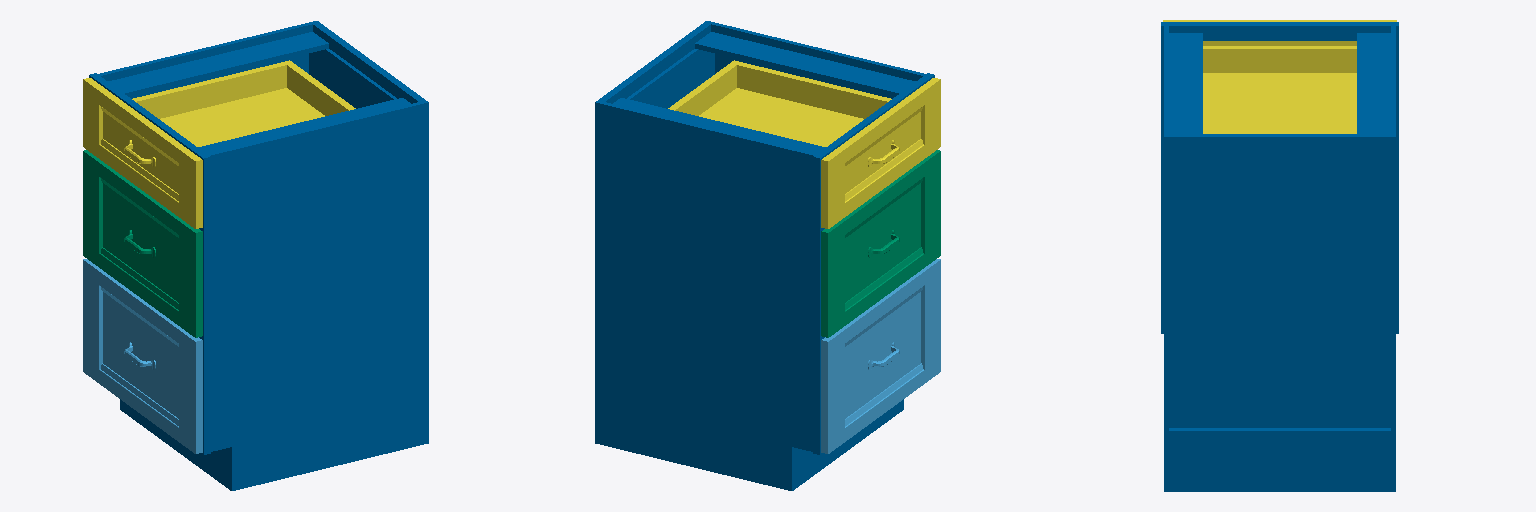
robot.urdf — partnet_140c308db70cd2674da5feafe6f1c8fc:
<?xml version="1.0" ?>
<robot name="partnet_140c308db70cd2674da5feafe6f1c8fc">
	<link name="base"/>
	<link name="link_0">
		<visual name="drawer_front-42">
			<origin xyz="-0.14754418238352668 0.3090185484725288 -0.538657009601593"/>
			<geometry>
				<mesh filename="textured_objs/original-39.obj"/>
			</geometry>
		</visual>
		<visual name="drawer_front-42">
			<origin xyz="-0.14754418238352668 0.3090185484725288 -0.538657009601593"/>
			<geometry>
				<mesh filename="textured_objs/original-26.obj"/>
			</geometry>
		</visual>
		<visual name="drawer_side-43">
			<origin xyz="-0.14754418238352668 0.3090185484725288 -0.538657009601593"/>
			<geometry>
				<mesh filename="textured_objs/original-30.obj"/>
			</geometry>
		</visual>
		<visual name="drawer_side-44">
			<origin xyz="-0.14754418238352668 0.3090185484725288 -0.538657009601593"/>
			<geometry>
				<mesh filename="textured_objs/original-25.obj"/>
			</geometry>
		</visual>
		<visual name="drawer_back-45">
			<origin xyz="-0.14754418238352668 0.3090185484725288 -0.538657009601593"/>
			<geometry>
				<mesh filename="textured_objs/original-31.obj"/>
			</geometry>
		</visual>
		<visual name="drawer_bottom-46">
			<origin xyz="-0.14754418238352668 0.3090185484725288 -0.538657009601593"/>
			<geometry>
				<mesh filename="textured_objs/original-29.obj"/>
			</geometry>
		</visual>
		<visual name="drawer_bottom-46">
			<origin xyz="-0.14754418238352668 0.3090185484725288 -0.538657009601593"/>
			<geometry>
				<mesh filename="textured_objs/original-28.obj"/>
			</geometry>
		</visual>
		<visual name="other_leaf-48">
			<origin xyz="-0.14754418238352668 0.3090185484725288 -0.538657009601593"/>
			<geometry>
				<mesh filename="textured_objs/original-32.obj"/>
			</geometry>
		</visual>
		<visual name="drawer_front-67">
			<origin xyz="-0.14754418238352668 0.3090185484725288 -0.538657009601593"/>
			<geometry>
				<mesh filename="textured_objs/original-40.obj"/>
			</geometry>
		</visual>
		<visual name="drawer_front-67">
			<origin xyz="-0.14754418238352668 0.3090185484725288 -0.538657009601593"/>
			<geometry>
				<mesh filename="textured_objs/original-34.obj"/>
			</geometry>
		</visual>
		<visual name="drawer_front-67">
			<origin xyz="-0.14754418238352668 0.3090185484725288 -0.538657009601593"/>
			<geometry>
				<mesh filename="textured_objs/original-37.obj"/>
			</geometry>
		</visual>
		<visual name="drawer_front-67">
			<origin xyz="-0.14754418238352668 0.3090185484725288 -0.538657009601593"/>
			<geometry>
				<mesh filename="textured_objs/original-36.obj"/>
			</geometry>
		</visual>
		<visual name="drawer_front-67">
			<origin xyz="-0.14754418238352668 0.3090185484725288 -0.538657009601593"/>
			<geometry>
				<mesh filename="textured_objs/original-35.obj"/>
			</geometry>
		</visual>
		<visual name="handle-41">
			<origin xyz="-0.14754418238352668 0.3090185484725288 -0.538657009601593"/>
			<geometry>
				<mesh filename="textured_objs/original-41.obj"/>
			</geometry>
		</visual>
		<collision>
			<origin xyz="-0.14754418238352668 0.3090185484725288 -0.538657009601593"/>
			<geometry>
				<mesh filename="textured_objs/original-39.obj"/>
			</geometry>
		</collision>
		<collision>
			<origin xyz="-0.14754418238352668 0.3090185484725288 -0.538657009601593"/>
			<geometry>
				<mesh filename="textured_objs/original-26.obj"/>
			</geometry>
		</collision>
		<collision>
			<origin xyz="-0.14754418238352668 0.3090185484725288 -0.538657009601593"/>
			<geometry>
				<mesh filename="textured_objs/original-30.obj"/>
			</geometry>
		</collision>
		<collision>
			<origin xyz="-0.14754418238352668 0.3090185484725288 -0.538657009601593"/>
			<geometry>
				<mesh filename="textured_objs/original-25.obj"/>
			</geometry>
		</collision>
		<collision>
			<origin xyz="-0.14754418238352668 0.3090185484725288 -0.538657009601593"/>
			<geometry>
				<mesh filename="textured_objs/original-31.obj"/>
			</geometry>
		</collision>
		<collision>
			<origin xyz="-0.14754418238352668 0.3090185484725288 -0.538657009601593"/>
			<geometry>
				<mesh filename="textured_objs/original-29.obj"/>
			</geometry>
		</collision>
		<collision>
			<origin xyz="-0.14754418238352668 0.3090185484725288 -0.538657009601593"/>
			<geometry>
				<mesh filename="textured_objs/original-28.obj"/>
			</geometry>
		</collision>
		<collision>
			<origin xyz="-0.14754418238352668 0.3090185484725288 -0.538657009601593"/>
			<geometry>
				<mesh filename="textured_objs/original-32.obj"/>
			</geometry>
		</collision>
		<collision>
			<origin xyz="-0.14754418238352668 0.3090185484725288 -0.538657009601593"/>
			<geometry>
				<mesh filename="textured_objs/original-40.obj"/>
			</geometry>
		</collision>
		<collision>
			<origin xyz="-0.14754418238352668 0.3090185484725288 -0.538657009601593"/>
			<geometry>
				<mesh filename="textured_objs/original-34.obj"/>
			</geometry>
		</collision>
		<collision>
			<origin xyz="-0.14754418238352668 0.3090185484725288 -0.538657009601593"/>
			<geometry>
				<mesh filename="textured_objs/original-37.obj"/>
			</geometry>
		</collision>
		<collision>
			<origin xyz="-0.14754418238352668 0.3090185484725288 -0.538657009601593"/>
			<geometry>
				<mesh filename="textured_objs/original-36.obj"/>
			</geometry>
		</collision>
		<collision>
			<origin xyz="-0.14754418238352668 0.3090185484725288 -0.538657009601593"/>
			<geometry>
				<mesh filename="textured_objs/original-35.obj"/>
			</geometry>
		</collision>
		<collision>
			<origin xyz="-0.14754418238352668 0.3090185484725288 -0.538657009601593"/>
			<geometry>
				<mesh filename="textured_objs/original-41.obj"/>
			</geometry>
		</collision>
	</link>
	<joint name="joint_0" type="prismatic">
		<origin xyz="0.14754418238352668 -0.3090185484725288 0.538657009601593"/>
		<axis xyz="0 0 1"/>
		<child link="link_0"/>
		<parent link="link_3"/>
		<limit lower="0" upper="0.7999999999999998"/>
	</joint>
	<link name="link_1">
		<visual name="drawer_side-33">
			<origin xyz="0.06597755242387357 -0.15464955017204704 0.47079199552536055"/>
			<geometry>
				<mesh filename="textured_objs/original-49.obj"/>
			</geometry>
		</visual>
		<visual name="drawer_side-34">
			<origin xyz="0.06597755242387357 -0.15464955017204704 0.47079199552536055"/>
			<geometry>
				<mesh filename="textured_objs/original-44.obj"/>
			</geometry>
		</visual>
		<visual name="drawer_back-35">
			<origin xyz="0.06597755242387357 -0.15464955017204704 0.47079199552536055"/>
			<geometry>
				<mesh filename="textured_objs/original-50.obj"/>
			</geometry>
		</visual>
		<visual name="drawer_bottom-36">
			<origin xyz="0.06597755242387357 -0.15464955017204704 0.47079199552536055"/>
			<geometry>
				<mesh filename="textured_objs/original-48.obj"/>
			</geometry>
		</visual>
		<visual name="drawer_bottom-36">
			<origin xyz="0.06597755242387357 -0.15464955017204704 0.47079199552536055"/>
			<geometry>
				<mesh filename="textured_objs/original-47.obj"/>
			</geometry>
		</visual>
		<visual name="other_leaf-39">
			<origin xyz="0.06597755242387357 -0.15464955017204704 0.47079199552536055"/>
			<geometry>
				<mesh filename="textured_objs/original-51.obj"/>
			</geometry>
		</visual>
		<visual name="drawer_front-68">
			<origin xyz="0.06597755242387357 -0.15464955017204704 0.47079199552536055"/>
			<geometry>
				<mesh filename="textured_objs/original-59.obj"/>
			</geometry>
		</visual>
		<visual name="drawer_front-68">
			<origin xyz="0.06597755242387357 -0.15464955017204704 0.47079199552536055"/>
			<geometry>
				<mesh filename="textured_objs/original-53.obj"/>
			</geometry>
		</visual>
		<visual name="drawer_front-68">
			<origin xyz="0.06597755242387357 -0.15464955017204704 0.47079199552536055"/>
			<geometry>
				<mesh filename="textured_objs/original-56.obj"/>
			</geometry>
		</visual>
		<visual name="drawer_front-68">
			<origin xyz="0.06597755242387357 -0.15464955017204704 0.47079199552536055"/>
			<geometry>
				<mesh filename="textured_objs/original-55.obj"/>
			</geometry>
		</visual>
		<visual name="drawer_front-68">
			<origin xyz="0.06597755242387357 -0.15464955017204704 0.47079199552536055"/>
			<geometry>
				<mesh filename="textured_objs/original-54.obj"/>
			</geometry>
		</visual>
		<visual name="drawer_front-68">
			<origin xyz="0.06597755242387357 -0.15464955017204704 0.47079199552536055"/>
			<geometry>
				<mesh filename="textured_objs/original-45.obj"/>
			</geometry>
		</visual>
		<visual name="drawer_front-68">
			<origin xyz="0.06597755242387357 -0.15464955017204704 0.47079199552536055"/>
			<geometry>
				<mesh filename="textured_objs/original-58.obj"/>
			</geometry>
		</visual>
		<visual name="handle-31">
			<origin xyz="0.06597755242387357 -0.15464955017204704 0.47079199552536055"/>
			<geometry>
				<mesh filename="textured_objs/original-60.obj"/>
			</geometry>
		</visual>
		<collision>
			<origin xyz="0.06597755242387357 -0.15464955017204704 0.47079199552536055"/>
			<geometry>
				<mesh filename="textured_objs/original-49.obj"/>
			</geometry>
		</collision>
		<collision>
			<origin xyz="0.06597755242387357 -0.15464955017204704 0.47079199552536055"/>
			<geometry>
				<mesh filename="textured_objs/original-44.obj"/>
			</geometry>
		</collision>
		<collision>
			<origin xyz="0.06597755242387357 -0.15464955017204704 0.47079199552536055"/>
			<geometry>
				<mesh filename="textured_objs/original-50.obj"/>
			</geometry>
		</collision>
		<collision>
			<origin xyz="0.06597755242387357 -0.15464955017204704 0.47079199552536055"/>
			<geometry>
				<mesh filename="textured_objs/original-48.obj"/>
			</geometry>
		</collision>
		<collision>
			<origin xyz="0.06597755242387357 -0.15464955017204704 0.47079199552536055"/>
			<geometry>
				<mesh filename="textured_objs/original-47.obj"/>
			</geometry>
		</collision>
		<collision>
			<origin xyz="0.06597755242387357 -0.15464955017204704 0.47079199552536055"/>
			<geometry>
				<mesh filename="textured_objs/original-51.obj"/>
			</geometry>
		</collision>
		<collision>
			<origin xyz="0.06597755242387357 -0.15464955017204704 0.47079199552536055"/>
			<geometry>
				<mesh filename="textured_objs/original-59.obj"/>
			</geometry>
		</collision>
		<collision>
			<origin xyz="0.06597755242387357 -0.15464955017204704 0.47079199552536055"/>
			<geometry>
				<mesh filename="textured_objs/original-53.obj"/>
			</geometry>
		</collision>
		<collision>
			<origin xyz="0.06597755242387357 -0.15464955017204704 0.47079199552536055"/>
			<geometry>
				<mesh filename="textured_objs/original-56.obj"/>
			</geometry>
		</collision>
		<collision>
			<origin xyz="0.06597755242387357 -0.15464955017204704 0.47079199552536055"/>
			<geometry>
				<mesh filename="textured_objs/original-55.obj"/>
			</geometry>
		</collision>
		<collision>
			<origin xyz="0.06597755242387357 -0.15464955017204704 0.47079199552536055"/>
			<geometry>
				<mesh filename="textured_objs/original-54.obj"/>
			</geometry>
		</collision>
		<collision>
			<origin xyz="0.06597755242387357 -0.15464955017204704 0.47079199552536055"/>
			<geometry>
				<mesh filename="textured_objs/original-45.obj"/>
			</geometry>
		</collision>
		<collision>
			<origin xyz="0.06597755242387357 -0.15464955017204704 0.47079199552536055"/>
			<geometry>
				<mesh filename="textured_objs/original-58.obj"/>
			</geometry>
		</collision>
		<collision>
			<origin xyz="0.06597755242387357 -0.15464955017204704 0.47079199552536055"/>
			<geometry>
				<mesh filename="textured_objs/original-60.obj"/>
			</geometry>
		</collision>
	</link>
	<joint name="joint_1" type="prismatic">
		<origin xyz="-0.06597755242387357 0.15464955017204704 -0.47079199552536055"/>
		<axis xyz="0 0 1"/>
		<child link="link_1"/>
		<parent link="link_3"/>
		<limit lower="0" upper="0.7999999999999998"/>
	</joint>
	<link name="link_2">
		<visual name="drawer_side-10">
			<origin xyz="0.015975571246585413 -0.5151023282218963 0.4707919955253601"/>
			<geometry>
				<mesh filename="textured_objs/original-68.obj"/>
			</geometry>
		</visual>
		<visual name="drawer_side-11">
			<origin xyz="0.015975571246585413 -0.5151023282218963 0.4707919955253601"/>
			<geometry>
				<mesh filename="textured_objs/original-63.obj"/>
			</geometry>
		</visual>
		<visual name="drawer_back-12">
			<origin xyz="0.015975571246585413 -0.5151023282218963 0.4707919955253601"/>
			<geometry>
				<mesh filename="textured_objs/original-69.obj"/>
			</geometry>
		</visual>
		<visual name="drawer_bottom-13">
			<origin xyz="0.015975571246585413 -0.5151023282218963 0.4707919955253601"/>
			<geometry>
				<mesh filename="textured_objs/original-66.obj"/>
			</geometry>
		</visual>
		<visual name="drawer_bottom-13">
			<origin xyz="0.015975571246585413 -0.5151023282218963 0.4707919955253601"/>
			<geometry>
				<mesh filename="textured_objs/original-67.obj"/>
			</geometry>
		</visual>
		<visual name="drawer_front-14">
			<origin xyz="0.015975571246585413 -0.5151023282218963 0.4707919955253601"/>
			<geometry>
				<mesh filename="textured_objs/original-72.obj"/>
			</geometry>
		</visual>
		<visual name="drawer_front-14">
			<origin xyz="0.015975571246585413 -0.5151023282218963 0.4707919955253601"/>
			<geometry>
				<mesh filename="textured_objs/original-75.obj"/>
			</geometry>
		</visual>
		<visual name="drawer_front-14">
			<origin xyz="0.015975571246585413 -0.5151023282218963 0.4707919955253601"/>
			<geometry>
				<mesh filename="textured_objs/original-74.obj"/>
			</geometry>
		</visual>
		<visual name="drawer_front-14">
			<origin xyz="0.015975571246585413 -0.5151023282218963 0.4707919955253601"/>
			<geometry>
				<mesh filename="textured_objs/original-73.obj"/>
			</geometry>
		</visual>
		<visual name="drawer_front-14">
			<origin xyz="0.015975571246585413 -0.5151023282218963 0.4707919955253601"/>
			<geometry>
				<mesh filename="textured_objs/original-78.obj"/>
			</geometry>
		</visual>
		<visual name="drawer_front-14">
			<origin xyz="0.015975571246585413 -0.5151023282218963 0.4707919955253601"/>
			<geometry>
				<mesh filename="textured_objs/original-64.obj"/>
			</geometry>
		</visual>
		<visual name="drawer_front-14">
			<origin xyz="0.015975571246585413 -0.5151023282218963 0.4707919955253601"/>
			<geometry>
				<mesh filename="textured_objs/original-77.obj"/>
			</geometry>
		</visual>
		<visual name="other_leaf-16">
			<origin xyz="0.015975571246585413 -0.5151023282218963 0.4707919955253601"/>
			<geometry>
				<mesh filename="textured_objs/original-70.obj"/>
			</geometry>
		</visual>
		<visual name="handle-8">
			<origin xyz="0.015975571246585413 -0.5151023282218963 0.4707919955253601"/>
			<geometry>
				<mesh filename="textured_objs/original-79.obj"/>
			</geometry>
		</visual>
		<collision>
			<origin xyz="0.015975571246585413 -0.5151023282218963 0.4707919955253601"/>
			<geometry>
				<mesh filename="textured_objs/original-68.obj"/>
			</geometry>
		</collision>
		<collision>
			<origin xyz="0.015975571246585413 -0.5151023282218963 0.4707919955253601"/>
			<geometry>
				<mesh filename="textured_objs/original-63.obj"/>
			</geometry>
		</collision>
		<collision>
			<origin xyz="0.015975571246585413 -0.5151023282218963 0.4707919955253601"/>
			<geometry>
				<mesh filename="textured_objs/original-69.obj"/>
			</geometry>
		</collision>
		<collision>
			<origin xyz="0.015975571246585413 -0.5151023282218963 0.4707919955253601"/>
			<geometry>
				<mesh filename="textured_objs/original-66.obj"/>
			</geometry>
		</collision>
		<collision>
			<origin xyz="0.015975571246585413 -0.5151023282218963 0.4707919955253601"/>
			<geometry>
				<mesh filename="textured_objs/original-67.obj"/>
			</geometry>
		</collision>
		<collision>
			<origin xyz="0.015975571246585413 -0.5151023282218963 0.4707919955253601"/>
			<geometry>
				<mesh filename="textured_objs/original-72.obj"/>
			</geometry>
		</collision>
		<collision>
			<origin xyz="0.015975571246585413 -0.5151023282218963 0.4707919955253601"/>
			<geometry>
				<mesh filename="textured_objs/original-75.obj"/>
			</geometry>
		</collision>
		<collision>
			<origin xyz="0.015975571246585413 -0.5151023282218963 0.4707919955253601"/>
			<geometry>
				<mesh filename="textured_objs/original-74.obj"/>
			</geometry>
		</collision>
		<collision>
			<origin xyz="0.015975571246585413 -0.5151023282218963 0.4707919955253601"/>
			<geometry>
				<mesh filename="textured_objs/original-73.obj"/>
			</geometry>
		</collision>
		<collision>
			<origin xyz="0.015975571246585413 -0.5151023282218963 0.4707919955253601"/>
			<geometry>
				<mesh filename="textured_objs/original-78.obj"/>
			</geometry>
		</collision>
		<collision>
			<origin xyz="0.015975571246585413 -0.5151023282218963 0.4707919955253601"/>
			<geometry>
				<mesh filename="textured_objs/original-64.obj"/>
			</geometry>
		</collision>
		<collision>
			<origin xyz="0.015975571246585413 -0.5151023282218963 0.4707919955253601"/>
			<geometry>
				<mesh filename="textured_objs/original-77.obj"/>
			</geometry>
		</collision>
		<collision>
			<origin xyz="0.015975571246585413 -0.5151023282218963 0.4707919955253601"/>
			<geometry>
				<mesh filename="textured_objs/original-70.obj"/>
			</geometry>
		</collision>
		<collision>
			<origin xyz="0.015975571246585413 -0.5151023282218963 0.4707919955253601"/>
			<geometry>
				<mesh filename="textured_objs/original-79.obj"/>
			</geometry>
		</collision>
	</link>
	<joint name="joint_2" type="prismatic">
		<origin xyz="-0.015975571246585413 0.5151023282218963 -0.4707919955253601"/>
		<axis xyz="0 0 1"/>
		<child link="link_2"/>
		<parent link="link_3"/>
		<limit lower="0" upper="0.7999999999999998"/>
	</joint>
	<link name="link_3">
		<visual name="vertical_side_panel-23">
			<origin xyz="0 0 0"/>
			<geometry>
				<mesh filename="textured_objs/original-11.obj"/>
			</geometry>
		</visual>
		<visual name="vertical_side_panel-23">
			<origin xyz="0 0 0"/>
			<geometry>
				<mesh filename="textured_objs/original-10.obj"/>
			</geometry>
		</visual>
		<visual name="vertical_side_panel-24">
			<origin xyz="0 0 0"/>
			<geometry>
				<mesh filename="textured_objs/original-15.obj"/>
			</geometry>
		</visual>
		<visual name="vertical_side_panel-24">
			<origin xyz="0 0 0"/>
			<geometry>
				<mesh filename="textured_objs/original-14.obj"/>
			</geometry>
		</visual>
		<visual name="back_panel-27">
			<origin xyz="0 0 0"/>
			<geometry>
				<mesh filename="textured_objs/original-5.obj"/>
			</geometry>
		</visual>
		<visual name="bottom_panel-28">
			<origin xyz="0 0 0"/>
			<geometry>
				<mesh filename="textured_objs/original-2.obj"/>
			</geometry>
		</visual>
		<visual name="frame_vertical_bar-54">
			<origin xyz="0 0 0"/>
			<geometry>
				<mesh filename="textured_objs/original-3.obj"/>
			</geometry>
		</visual>
		<visual name="frame_vertical_bar-55">
			<origin xyz="0 0 0"/>
			<geometry>
				<mesh filename="textured_objs/original-7.obj"/>
			</geometry>
		</visual>
		<visual name="frame_horizontal_bar-56">
			<origin xyz="0 0 0"/>
			<geometry>
				<mesh filename="textured_objs/original-22.obj"/>
			</geometry>
		</visual>
		<visual name="frame_horizontal_bar-57">
			<origin xyz="0 0 0"/>
			<geometry>
				<mesh filename="textured_objs/original-8.obj"/>
			</geometry>
		</visual>
		<visual name="frame_horizontal_bar-58">
			<origin xyz="0 0 0"/>
			<geometry>
				<mesh filename="textured_objs/original-21.obj"/>
			</geometry>
		</visual>
		<visual name="frame_horizontal_bar-59">
			<origin xyz="0 0 0"/>
			<geometry>
				<mesh filename="textured_objs/original-20.obj"/>
			</geometry>
		</visual>
		<visual name="frame_horizontal_bar-60">
			<origin xyz="0 0 0"/>
			<geometry>
				<mesh filename="textured_objs/original-4.obj"/>
			</geometry>
		</visual>
		<visual name="frame_horizontal_bar-61">
			<origin xyz="0 0 0"/>
			<geometry>
				<mesh filename="textured_objs/original-17.obj"/>
			</geometry>
		</visual>
		<visual name="frame_horizontal_bar-62">
			<origin xyz="0 0 0"/>
			<geometry>
				<mesh filename="textured_objs/original-6.obj"/>
			</geometry>
		</visual>
		<visual name="other_leaf-64">
			<origin xyz="0 0 0"/>
			<geometry>
				<mesh filename="textured_objs/original-80.obj"/>
			</geometry>
		</visual>
		<visual name="base_side_panel-50">
			<origin xyz="0 0 0"/>
			<geometry>
				<mesh filename="textured_objs/original-18.obj"/>
			</geometry>
		</visual>
		<visual name="base_side_panel-51">
			<origin xyz="0 0 0"/>
			<geometry>
				<mesh filename="textured_objs/original-12.obj"/>
			</geometry>
		</visual>
		<visual name="base_side_panel-52">
			<origin xyz="0 0 0"/>
			<geometry>
				<mesh filename="textured_objs/original-16.obj"/>
			</geometry>
		</visual>
		<visual name="base_side_panel-53">
			<origin xyz="0 0 0"/>
			<geometry>
				<mesh filename="textured_objs/original-19.obj"/>
			</geometry>
		</visual>
		<collision>
			<origin xyz="0 0 0"/>
			<geometry>
				<mesh filename="textured_objs/original-11.obj"/>
			</geometry>
		</collision>
		<collision>
			<origin xyz="0 0 0"/>
			<geometry>
				<mesh filename="textured_objs/original-10.obj"/>
			</geometry>
		</collision>
		<collision>
			<origin xyz="0 0 0"/>
			<geometry>
				<mesh filename="textured_objs/original-15.obj"/>
			</geometry>
		</collision>
		<collision>
			<origin xyz="0 0 0"/>
			<geometry>
				<mesh filename="textured_objs/original-14.obj"/>
			</geometry>
		</collision>
		<collision>
			<origin xyz="0 0 0"/>
			<geometry>
				<mesh filename="textured_objs/original-5.obj"/>
			</geometry>
		</collision>
		<collision>
			<origin xyz="0 0 0"/>
			<geometry>
				<mesh filename="textured_objs/original-2.obj"/>
			</geometry>
		</collision>
		<collision>
			<origin xyz="0 0 0"/>
			<geometry>
				<mesh filename="textured_objs/original-3.obj"/>
			</geometry>
		</collision>
		<collision>
			<origin xyz="0 0 0"/>
			<geometry>
				<mesh filename="textured_objs/original-7.obj"/>
			</geometry>
		</collision>
		<collision>
			<origin xyz="0 0 0"/>
			<geometry>
				<mesh filename="textured_objs/original-22.obj"/>
			</geometry>
		</collision>
		<collision>
			<origin xyz="0 0 0"/>
			<geometry>
				<mesh filename="textured_objs/original-8.obj"/>
			</geometry>
		</collision>
		<collision>
			<origin xyz="0 0 0"/>
			<geometry>
				<mesh filename="textured_objs/original-21.obj"/>
			</geometry>
		</collision>
		<collision>
			<origin xyz="0 0 0"/>
			<geometry>
				<mesh filename="textured_objs/original-20.obj"/>
			</geometry>
		</collision>
		<collision>
			<origin xyz="0 0 0"/>
			<geometry>
				<mesh filename="textured_objs/original-4.obj"/>
			</geometry>
		</collision>
		<collision>
			<origin xyz="0 0 0"/>
			<geometry>
				<mesh filename="textured_objs/original-17.obj"/>
			</geometry>
		</collision>
		<collision>
			<origin xyz="0 0 0"/>
			<geometry>
				<mesh filename="textured_objs/original-6.obj"/>
			</geometry>
		</collision>
		<collision>
			<origin xyz="0 0 0"/>
			<geometry>
				<mesh filename="textured_objs/original-80.obj"/>
			</geometry>
		</collision>
		<collision>
			<origin xyz="0 0 0"/>
			<geometry>
				<mesh filename="textured_objs/original-18.obj"/>
			</geometry>
		</collision>
		<collision>
			<origin xyz="0 0 0"/>
			<geometry>
				<mesh filename="textured_objs/original-12.obj"/>
			</geometry>
		</collision>
		<collision>
			<origin xyz="0 0 0"/>
			<geometry>
				<mesh filename="textured_objs/original-16.obj"/>
			</geometry>
		</collision>
		<collision>
			<origin xyz="0 0 0"/>
			<geometry>
				<mesh filename="textured_objs/original-19.obj"/>
			</geometry>
		</collision>
	</link>
	<joint name="joint_3" type="fixed">
		<origin rpy="1.570796326794897 0 -1.570796326794897" xyz="0 0 0"/>
		<child link="link_3"/>
		<parent link="base"/>
	</joint>
</robot>

--- What the picture shows (computed from the rendered views, not written in the file) ---
The picture shows the robot from 3 angles, left to right: view 1: azimuth 30°, elevation 25°; view 2: azimuth 150°, elevation 25°; view 3: azimuth 270°, elevation 25°; orthographic projection.
Model partnet_140c308db70cd2674da5feafe6f1c8fc with 5 links and 4 joints (3 prismatic, 1 fixed), rooted at base, posed all joints at 0.
Links seen in each view (by area): view 1: link_3, link_2, link_0, link_1; view 2: link_3, link_2, link_0, link_1; view 3: link_3, link_2.
Link boxes in pixels (x1=…): link_3: x1=89, y1=21, x2=428, y2=490; link_2: x1=83, y1=60, x2=355, y2=228; link_0: x1=83, y1=259, x2=202, y2=453; link_1: x1=83, y1=150, x2=202, y2=337; link_3: x1=595, y1=21, x2=934, y2=490; link_2: x1=668, y1=60, x2=940, y2=228; link_0: x1=821, y1=259, x2=940, y2=453; link_1: x1=821, y1=150, x2=940, y2=337; link_3: x1=1161, y1=22, x2=1398, y2=491; link_2: x1=1163, y1=20, x2=1396, y2=133.
Bounding box of the posed robot: 1.11 × 0.9118 × 1.5 m (x, y, z).
Meshes: 62 distinct files referenced, 62 mesh visuals loaded (62 OBJ).